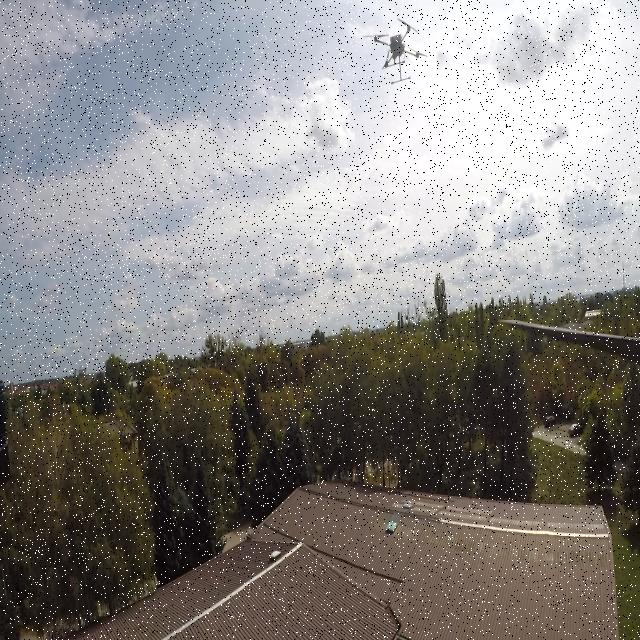UAV: (360, 13, 436, 84)
